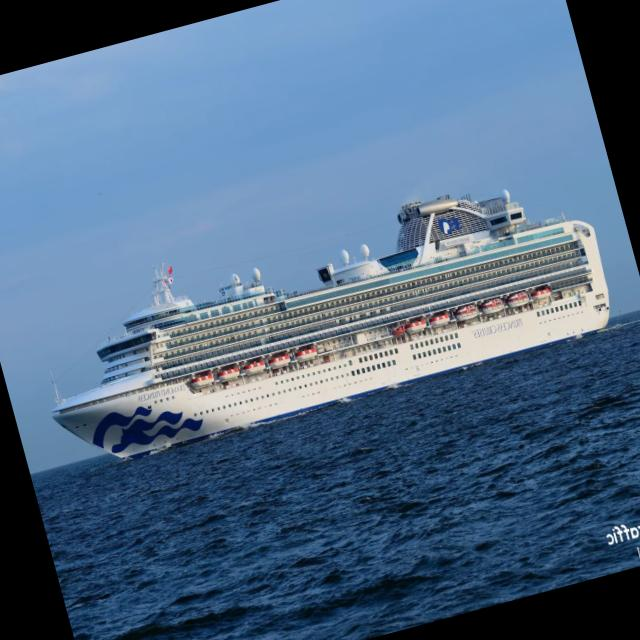Cruise: (51, 191, 610, 459)
